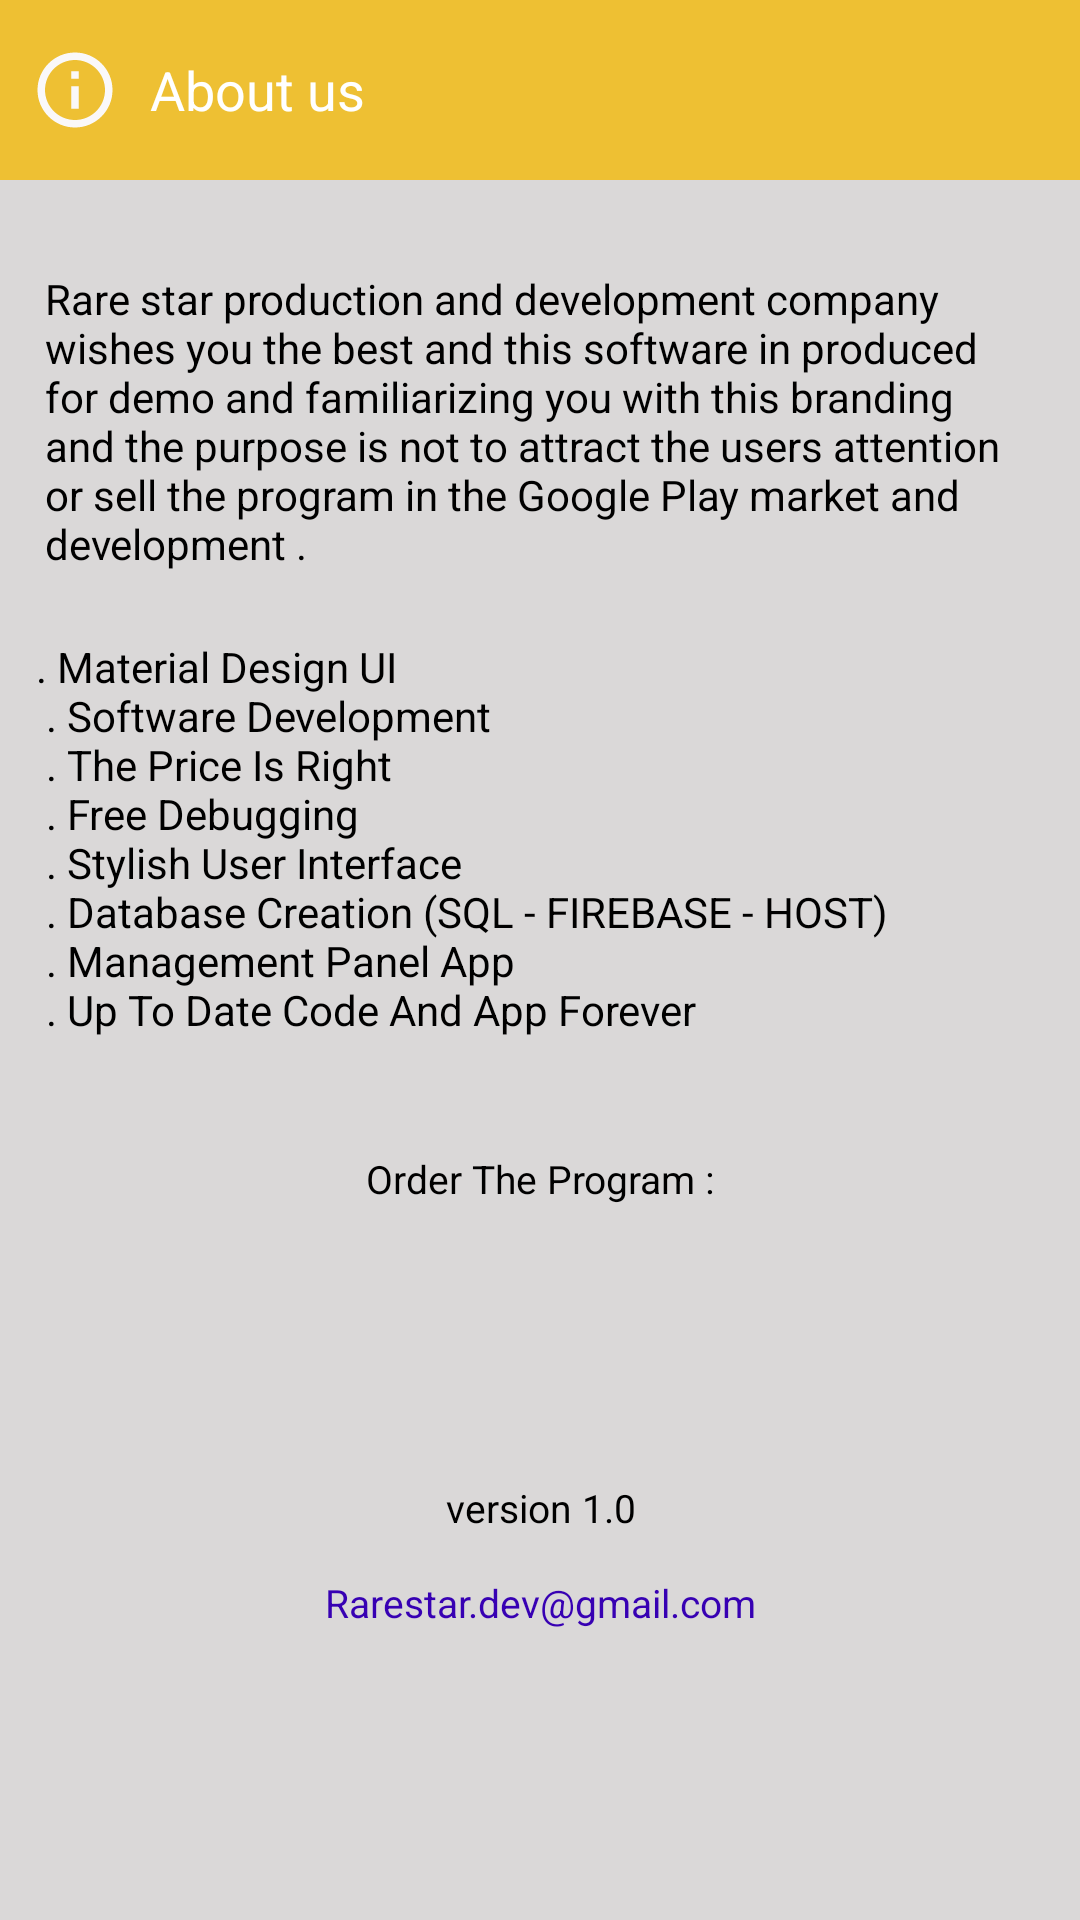

Icon bounding boxes for this 1080x1920 phone screenshot, format (x1, y1, x2, y2):
info: (37, 52, 113, 128)
